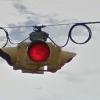Traffic light: (7, 23, 77, 76)
